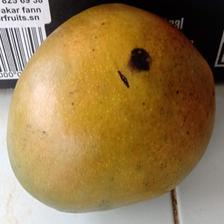mango: (6, 2, 216, 213)
